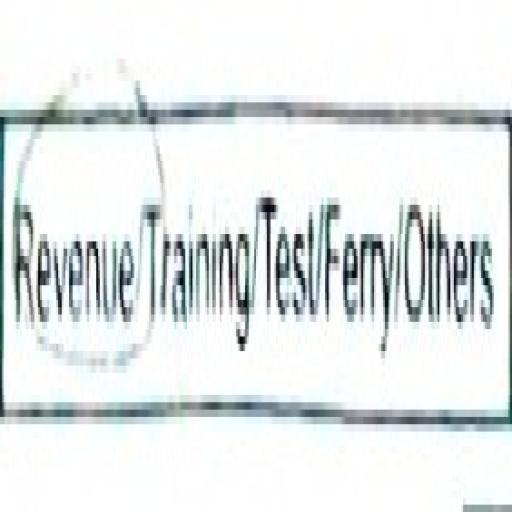check: (0, 10, 144, 511)
